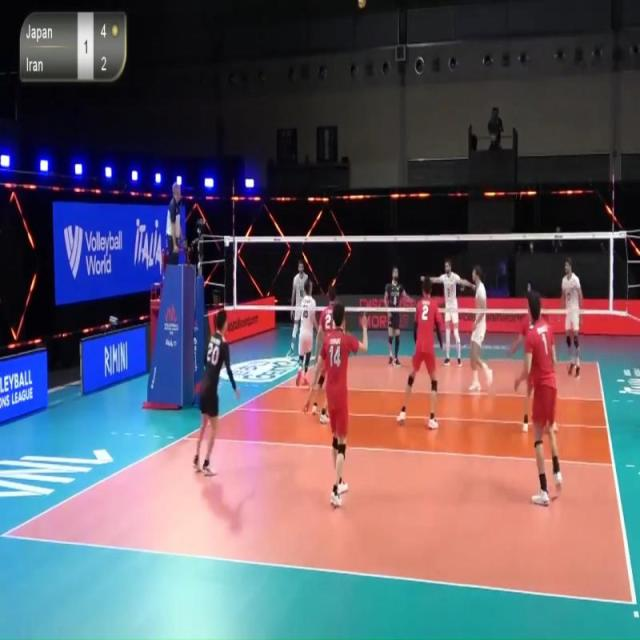volleyball: (355, 0, 368, 22)
